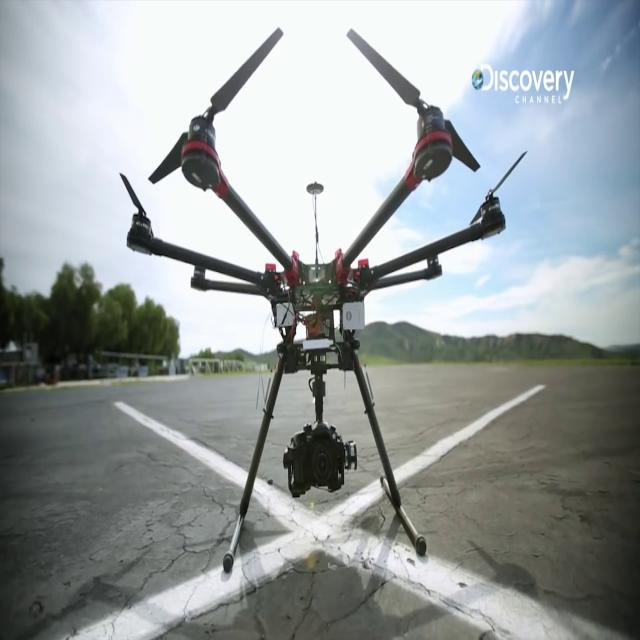drone: (80, 13, 554, 598)
